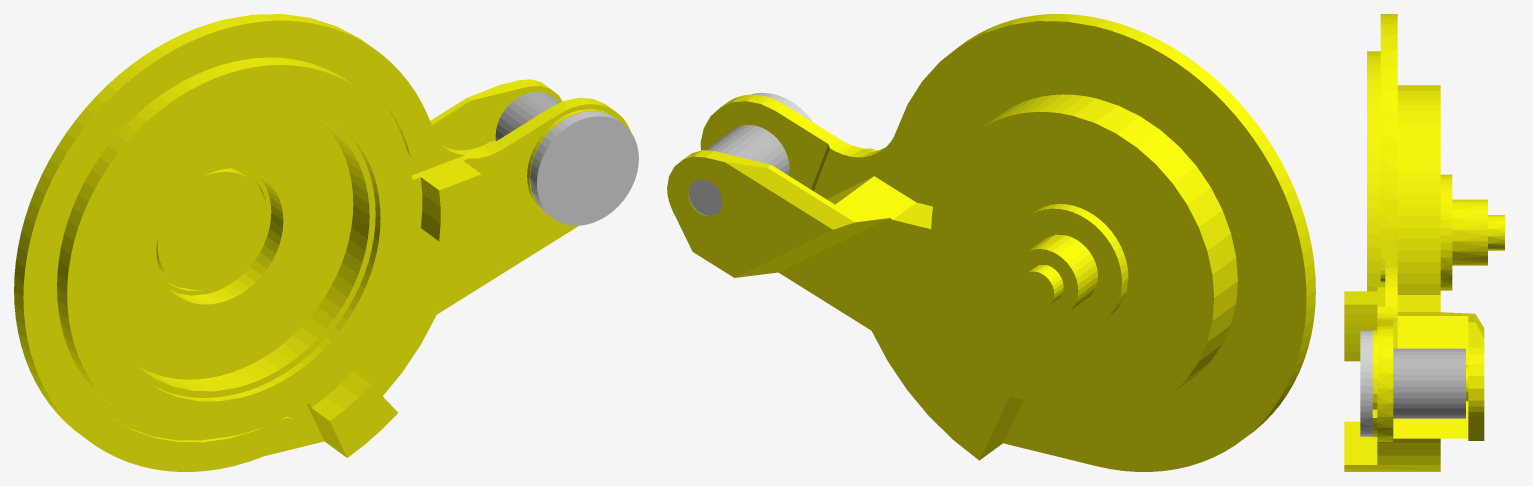
The picture shows the model from 3 angles, left to right: view 1: azimuth 30°, elevation 25°; view 2: azimuth 150°, elevation 25°; view 3: azimuth 270°, elevation 25°; orthographic projection. The views are drawn at different scales.
Visible parts, largest first — view 1: node; view 2: node; view 3: node.
Boxes of the visible parts, bbox=[...] form: node: bbox=[14, 14, 638, 471]; node: bbox=[667, 14, 1315, 471]; node: bbox=[1344, 14, 1504, 471].
Size of the model in its own units: 710 by 490 by 195.
